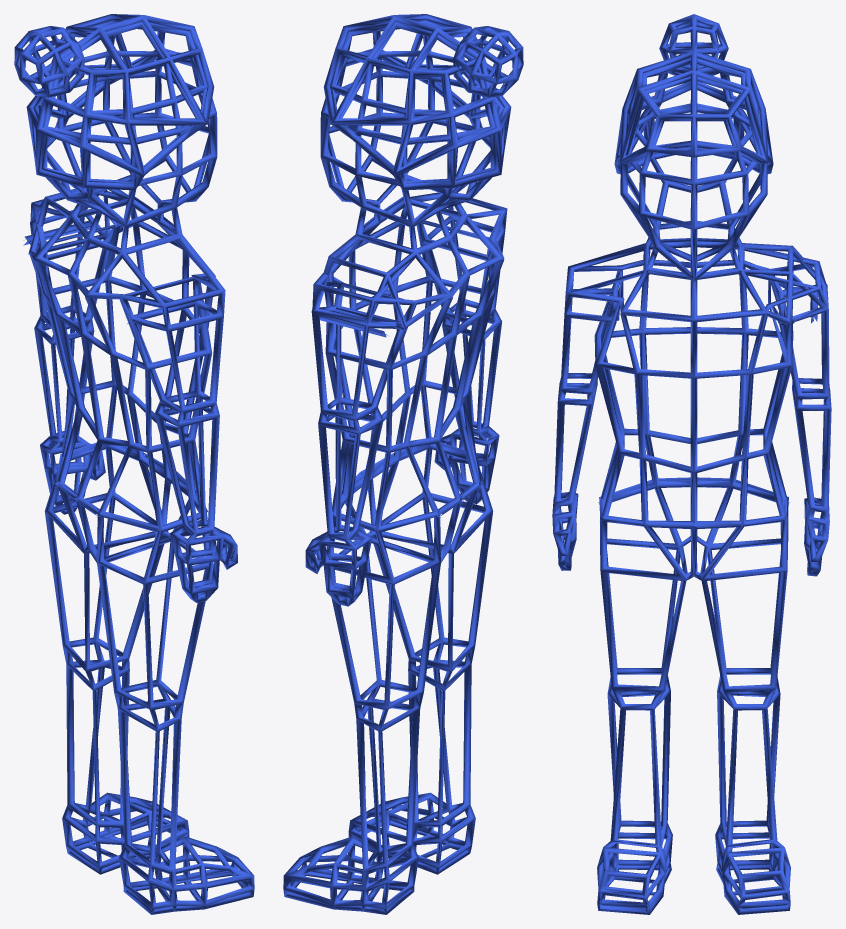
The model's file is char_holo.glb.
3 renders of one model, left to right at view 1: azimuth 30°, elevation 25°; view 2: azimuth 150°, elevation 25°; view 3: azimuth 270°, elevation 25°, orthographic. The views are drawn at different scales.
Visible parts, largest first — view 1: char; view 2: char; view 3: char.
Part boxes in pixels (x1,y1,x2,y2): char: (14,14,254,914); char: (283,14,523,914); char: (552,14,831,914).
Bounding box in the file's own units: 0.1141 × 0.4808 × 0.1478.
Materials: 1 (1 with a texture image).
